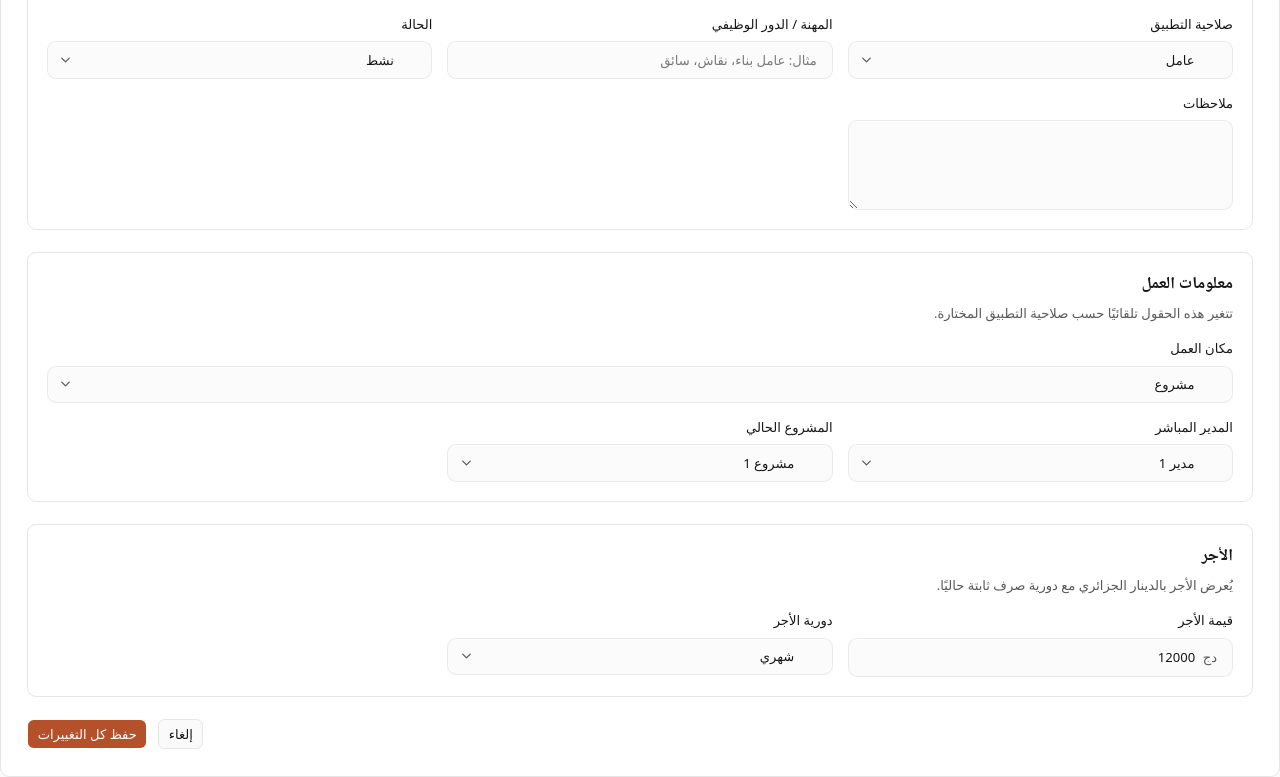
Scenario: employee edit atomic save (issue #49) › clears the save banner when a later submit fails validation
(page scrolled)
Click the button "حفظ كل التغييرات" at x=87, y=734, box [27,719,147,749]
(page scrolled)
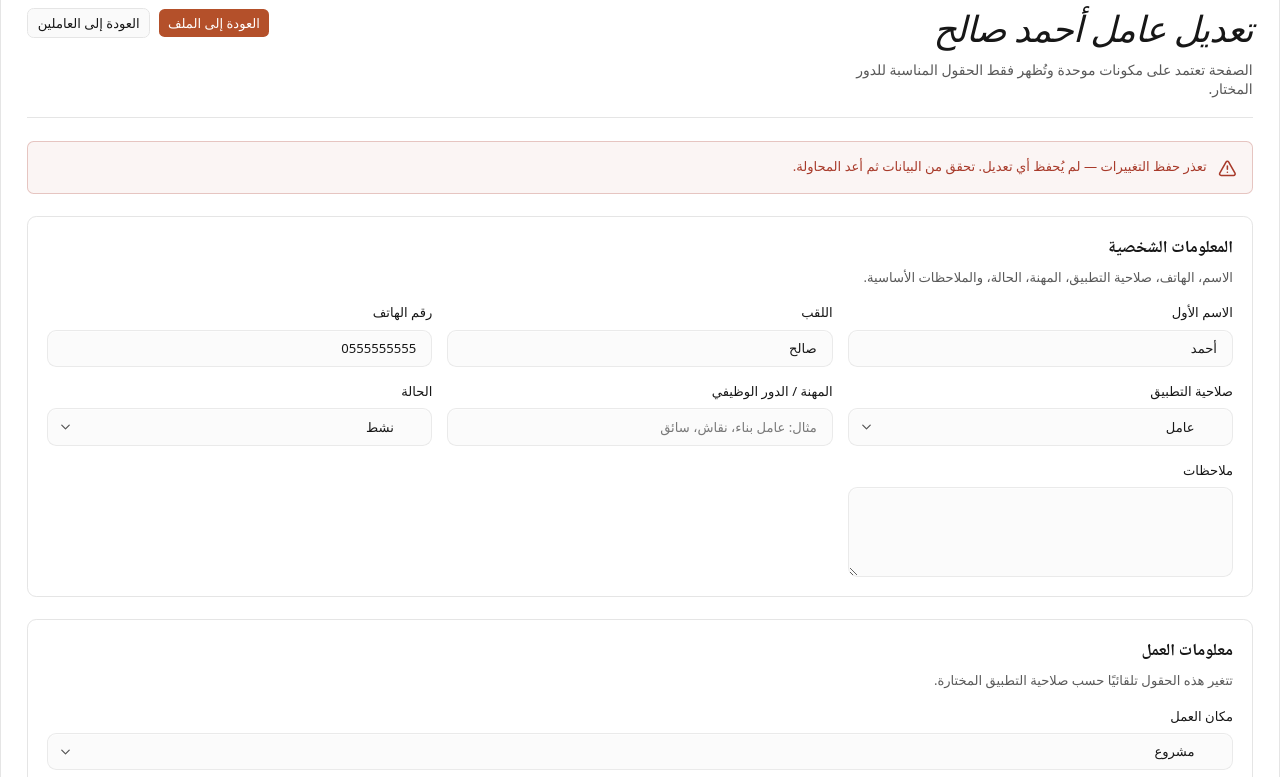
Expected: the message "تعذر حفظ التغييرات — لم يُحفظ أي تعديل. تحقق من البيانات ثم أعد المحاولة." is shown, [27,141,1253,194]
Clear the field labelled "الاسم الأول" at x=1040, y=348, box [848,330,1233,367]
(page scrolled)
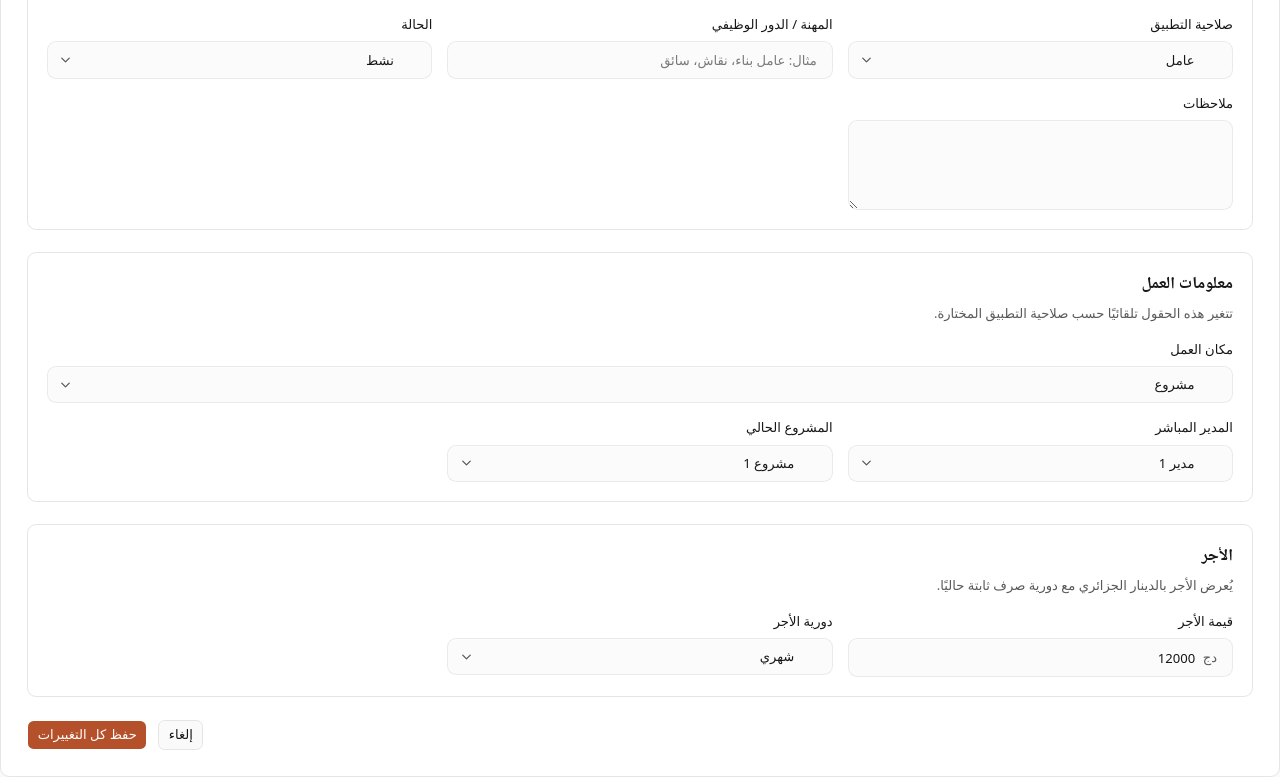
Click the button "حفظ كل التغييرات" at x=87, y=735, box [27,720,147,750]
(page scrolled)
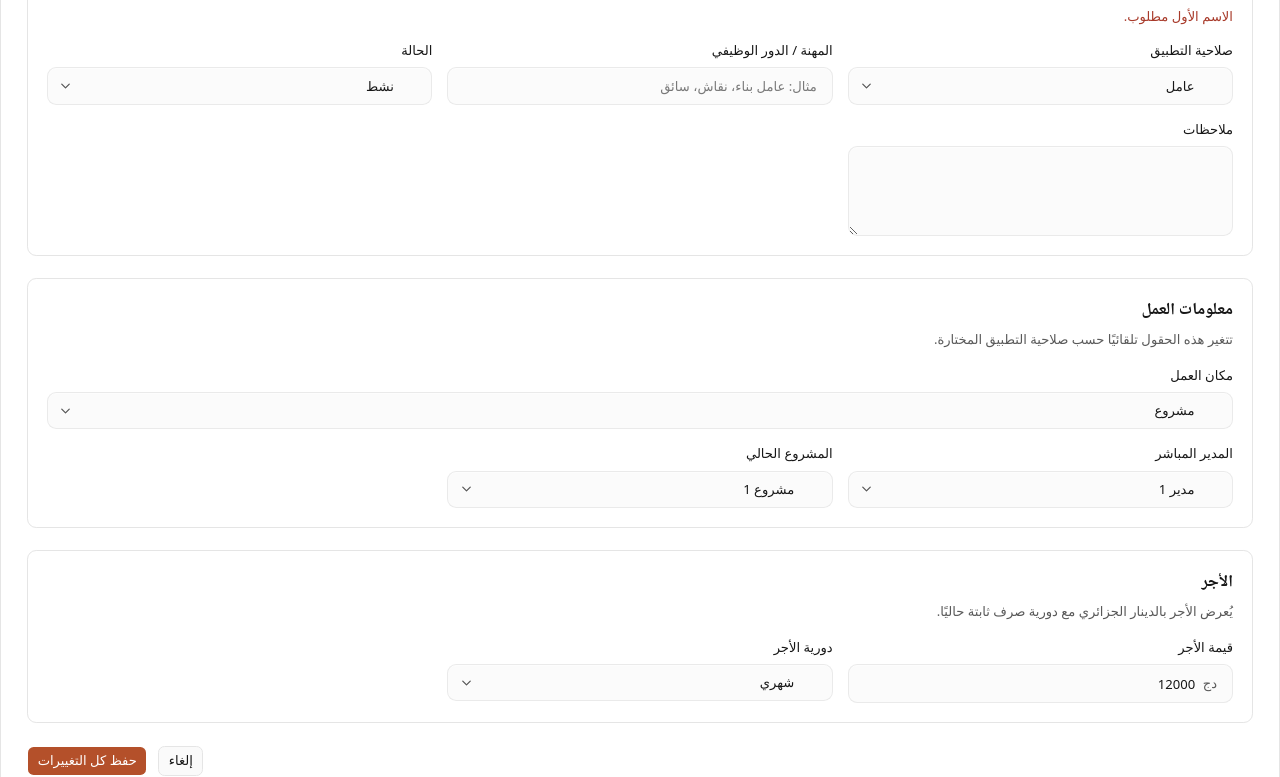
Expected: the message "تعذر حفظ التغييرات — لم يُحفظ أي تعديل. تحقق من البيانات ثم أعد المحاولة." is not shown
Expected: the text "الاسم الأول مطلوب." is shown, [1124,7,1233,25]
